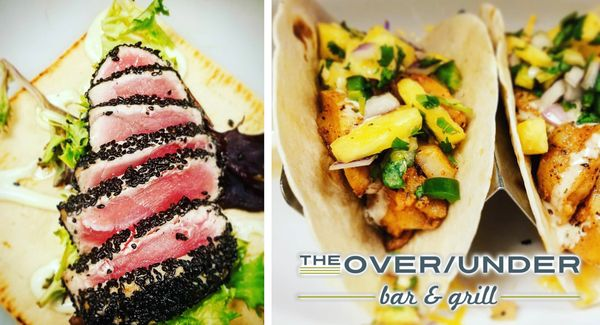soup: (49, 32, 256, 321), (277, 8, 499, 253)
